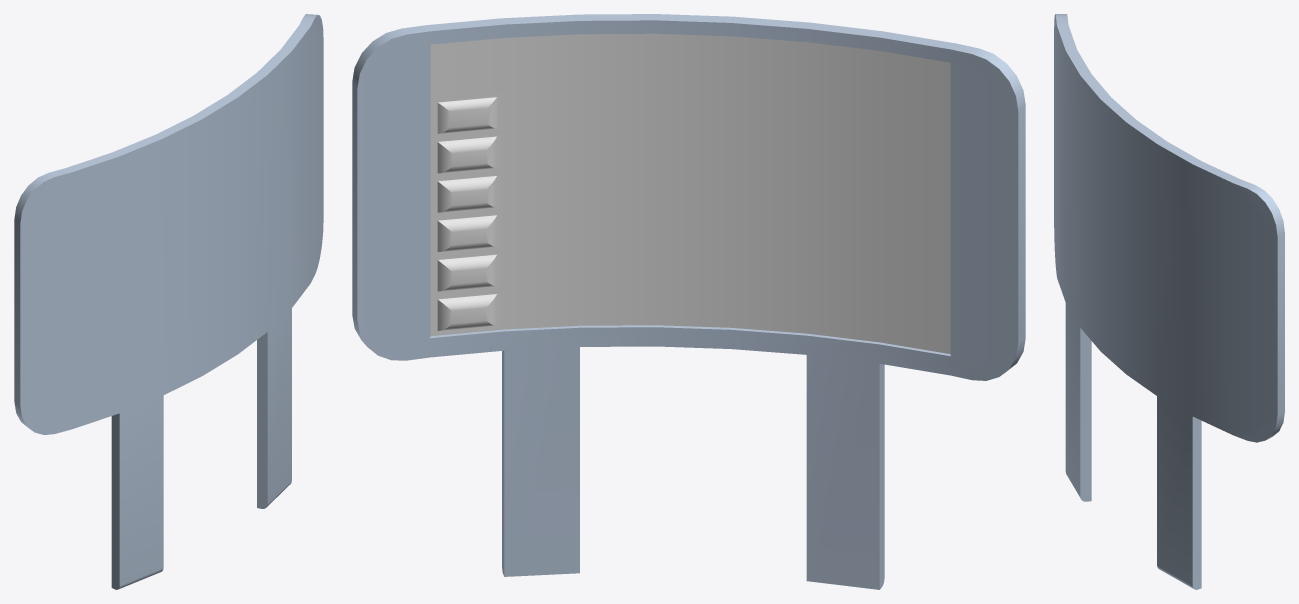
Rendered from PANEL.glb.
The picture shows the model from 3 angles, left to right: view 1: azimuth 30°, elevation 25°; view 2: azimuth 150°, elevation 25°; view 3: azimuth 270°, elevation 25°; orthographic projection. The views are drawn at different scales.
Parts seen in each view (by area): view 1: Circle; view 2: Circle; view 3: Circle.
Boxes of the visible parts, left/top/right/bottom form: Circle: left=14, top=14, right=323, bottom=589; Circle: left=352, top=14, right=1025, bottom=589; Circle: left=1054, top=14, right=1284, bottom=589.
Size of the model in its own units: 2.96 by 2.96 by 1.45.
